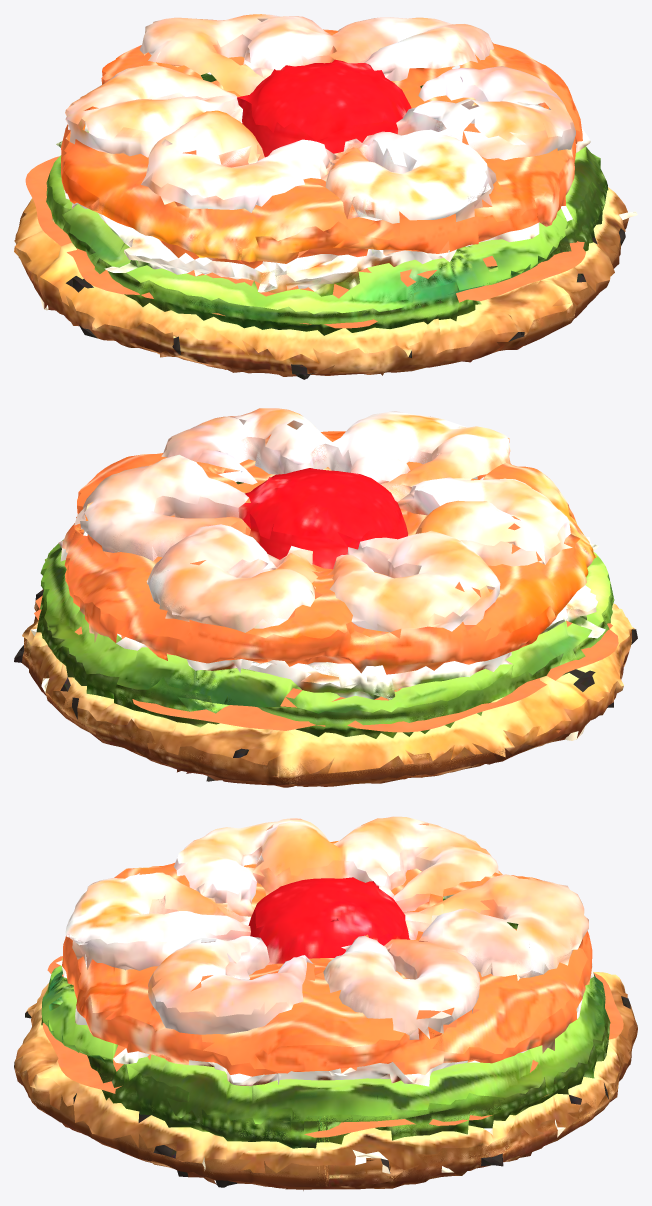
Rendered from sushi_pizza_lite.glb.
3 views of the same model, one above another, from view 1: azimuth 30°, elevation 25°; view 2: azimuth 150°, elevation 25°; view 3: azimuth 270°, elevation 25° (orthographic).
Visible parts, largest first — view 1: ing_shrimp, ing_salmon, ing_mozzaRice, ing_avocado, ing_tobiko, ing_crabstick, ing_mayo, ing_sesame; view 2: ing_shrimp, ing_salmon, ing_mozzaRice, ing_avocado, ing_tobiko, ing_crabstick, ing_mayo, ing_sesame; view 3: ing_shrimp, ing_salmon, ing_avocado, ing_mozzaRice, ing_tobiko, ing_mayo, ing_crabstick, ing_sesame.
Boxes of the visible parts, x1,y1,x2,y2 form: ing_shrimp: (65,14,575,223); ing_salmon: (61,29,582,268); ing_mozzaRice: (14,187,628,376); ing_avocado: (46,73,608,335); ing_tobiko: (237,59,411,157); ing_crabstick: (56,72,590,296); ing_mayo: (25,88,585,328); ing_sesame: (40,211,637,379); ing_shrimp: (74,408,572,632); ing_salmon: (62,431,596,674); ing_mozzaRice: (21,589,635,787); ing_avocado: (36,481,614,738); ing_tobiko: (238,468,408,569); ing_crabstick: (58,471,605,699); ing_mayo: (34,498,618,732); ing_sesame: (14,590,637,781); ing_shrimp: (65,816,588,1039); ing_salmon: (62,841,592,1076); ing_avocado: (41,897,610,1148); ing_mozzaRice: (14,972,637,1190); ing_tobiko: (248,877,410,965); ing_mayo: (42,928,623,1137); ing_crabstick: (56,894,593,1086); ing_sesame: (14,996,630,1187).
Size of the model in its own units: 0.1466 by 0.0503 by 0.1486.
Materials: 1 (1 with a texture image).
